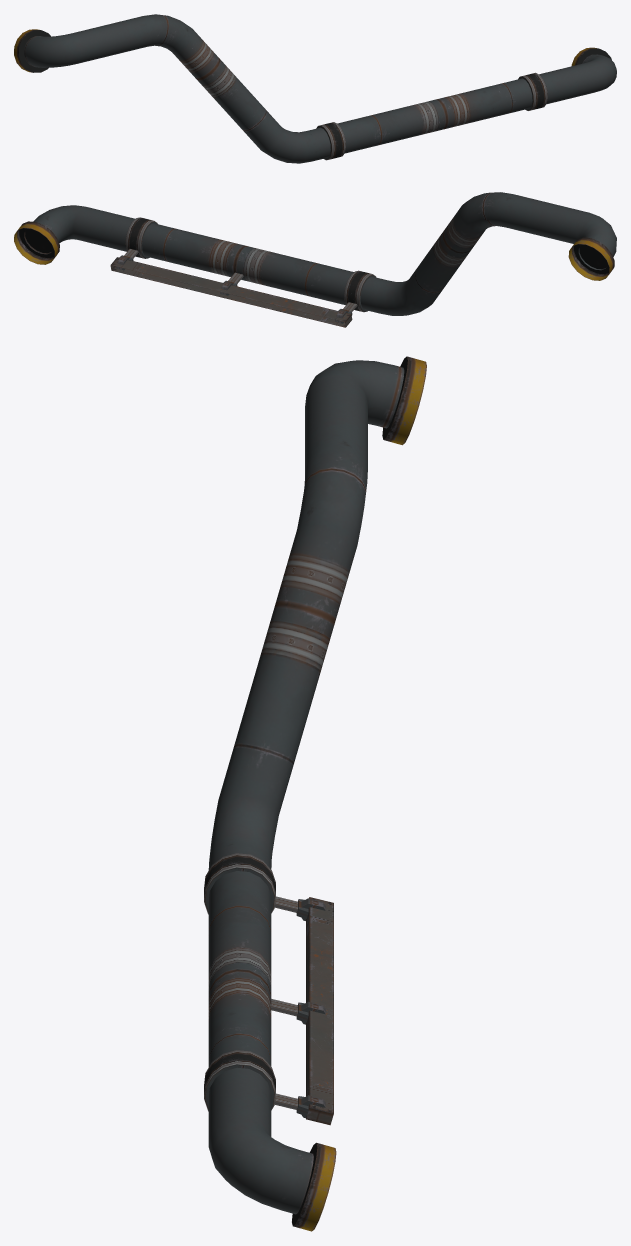
File: Wall3_Pipe4_L0.fbx
3 renders of one model, top to bottom at view 1: azimuth 30°, elevation 25°; view 2: azimuth 150°, elevation 25°; view 3: azimuth 270°, elevation 25°, orthographic. The views are drawn at different scales.
Parts seen in each view (by area): view 1: Wall3_Pipe4_L0; view 2: Wall3_Pipe4_L0; view 3: Wall3_Pipe4_L0.
Boxes of the visible parts, x1,y1,x2,y2 form: Wall3_Pipe4_L0: (14, 14, 616, 163); Wall3_Pipe4_L0: (14, 192, 616, 327); Wall3_Pipe4_L0: (204, 356, 426, 1231).
Bounding box in the file's own units: 522 × 154 × 88.12.
